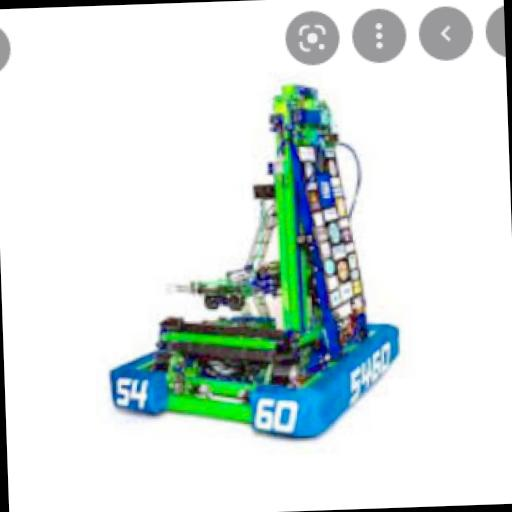robot: (92, 83, 402, 446)
